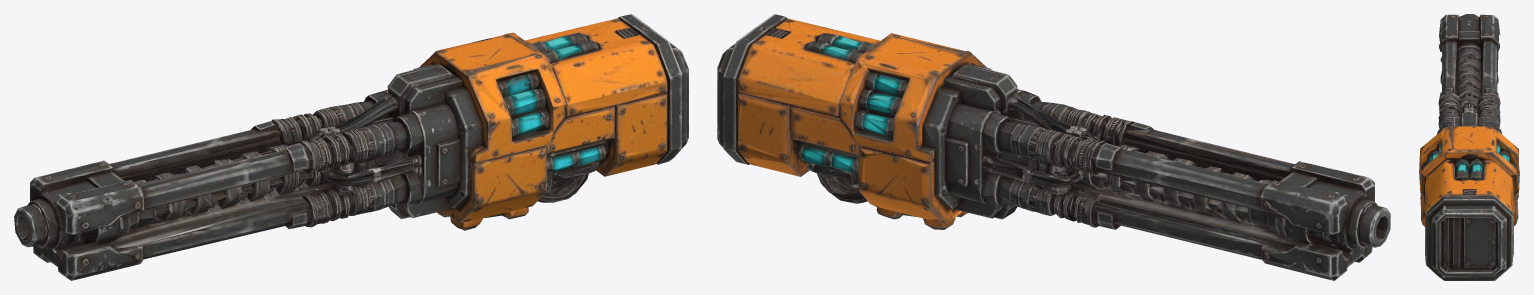
The model's file is rail.glb.
The picture shows the model from 3 angles, left to right: view 1: azimuth 30°, elevation 25°; view 2: azimuth 150°, elevation 25°; view 3: azimuth 270°, elevation 25°; orthographic projection. The views are drawn at different scales.
Parts seen in each view (by area): view 1: Mesh_0; view 2: Mesh_0; view 3: Mesh_0.
Boxes of the visible parts, bbox=[...] form: Mesh_0: bbox=[14, 14, 688, 280]; Mesh_0: bbox=[717, 14, 1390, 280]; Mesh_0: bbox=[1419, 14, 1519, 280].
Size of the model in its own units: 2.09 by 0.5 by 0.4223.
Materials: 1 (1 with a texture image).
